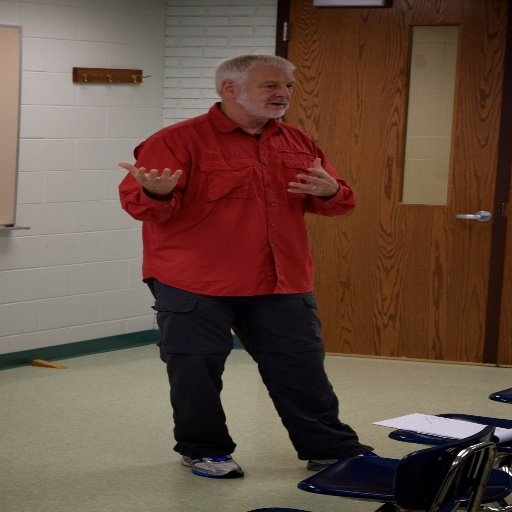hand: (116, 161, 183, 194), (297, 161, 351, 201)
